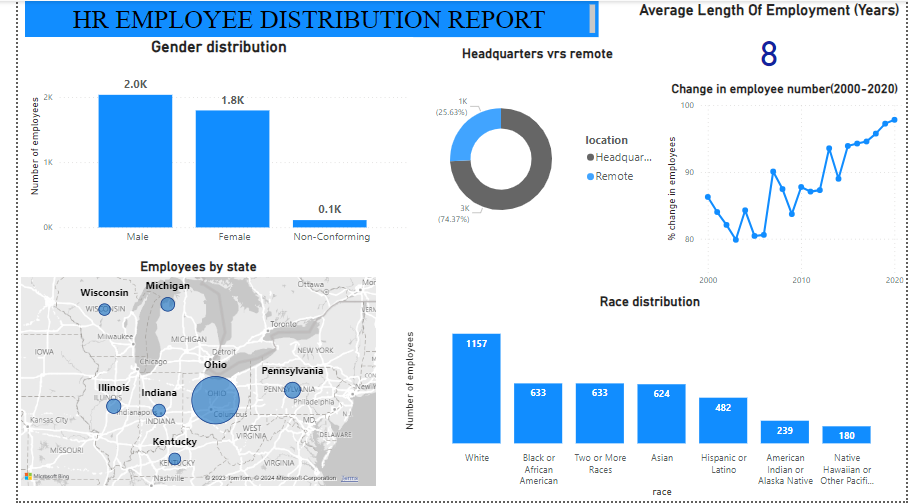

What the dashboard file says about the page in this screenshot:
{"tool":"powerbi","page":{"name":"Page 1","canvas":[1280,720],"ordinal":0},"visuals":[{"type":"textbox","box":[10.1,0,826.5,52.1],"z":0},{"type":"card","title":"Average Length Of Employment (Years)","fields":{"Values":["Sum(AVG_LENGTH_EMPLOYMENT.avg_length_employement)"]},"box":[882.7,0,397.4,115.2],"z":1000},{"type":"columnChart","title":"Gender distribution","fields":{"Category":["GENDER.gender"],"Y":["Sum(GENDER.count)"]},"box":[10.1,51.8,558.7,308.2],"z":1001},{"type":"donutChart","title":"Headquarters vrs remote","fields":{"Category":["LOCATION.location"],"Y":["Sum(LOCATION.count)"]},"box":[568.8,63.4,358.6,306.7],"z":1002},{"type":"lineChart","title":"Change in employee number(2000-2020)","fields":{"Category":["EMP_CHANGE.year"],"Y":["Sum(EMP_CHANGE.net_change_percent)"]},"box":[927.4,115.2,352.8,305.3],"z":1003},{"type":"map","title":"Employees by state","fields":{"Size":["Sum(STATES.COUNT)"],"Category":["STATES.location_state"]},"box":[0,370.1,519.8,334.1],"z":1004},{"type":"clusteredColumnChart","title":"Race distribution","fields":{"Category":["RACE.race"],"Y":["Sum(RACE.count)"]},"box":[550.1,420.5,720,299.5],"z":1005}]}

Visuals, with their boxes in screenshot pixels (x1, y1, x2, y2), scaled from the page's 1280x720 canvas onto the 908x503 screenshot:
textbox: box=[7, 0, 593, 36]
"Average Length Of Employment (Years)" card: box=[626, 0, 907, 80]
"Gender distribution" columnChart: box=[7, 36, 403, 252]
"Headquarters vrs remote" donutChart: box=[403, 44, 658, 259]
"Change in employee number(2000-2020)" lineChart: box=[658, 80, 907, 294]
"Employees by state" map: box=[0, 259, 369, 492]
"Race distribution" clusteredColumnChart: box=[390, 294, 901, 502]
